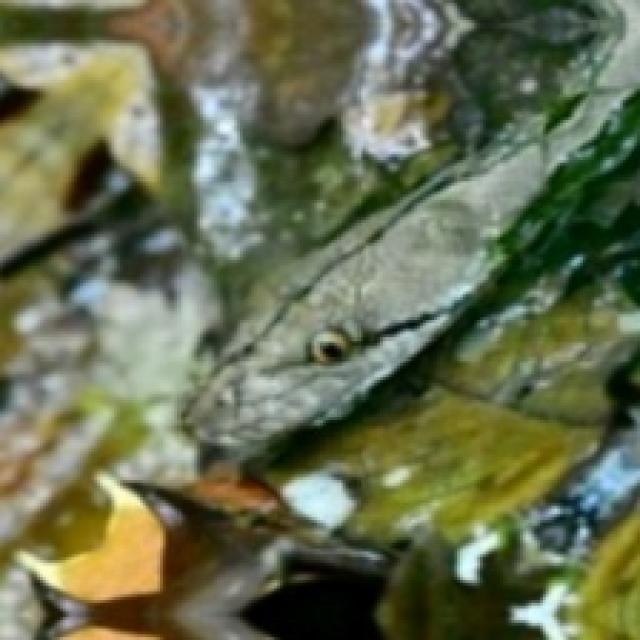reticulated python: (188, 0, 640, 462)
